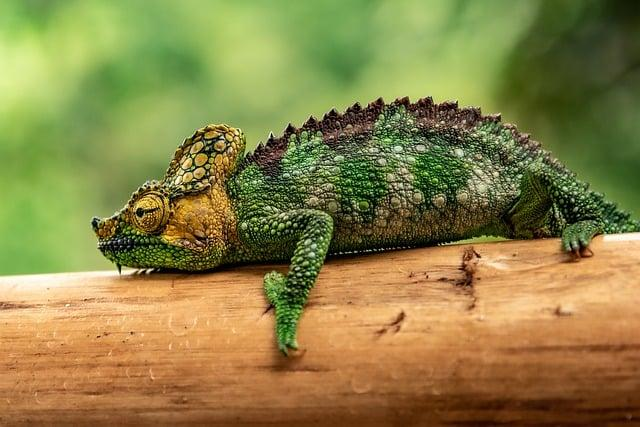Non_Gorille: (24, 1, 640, 418)
